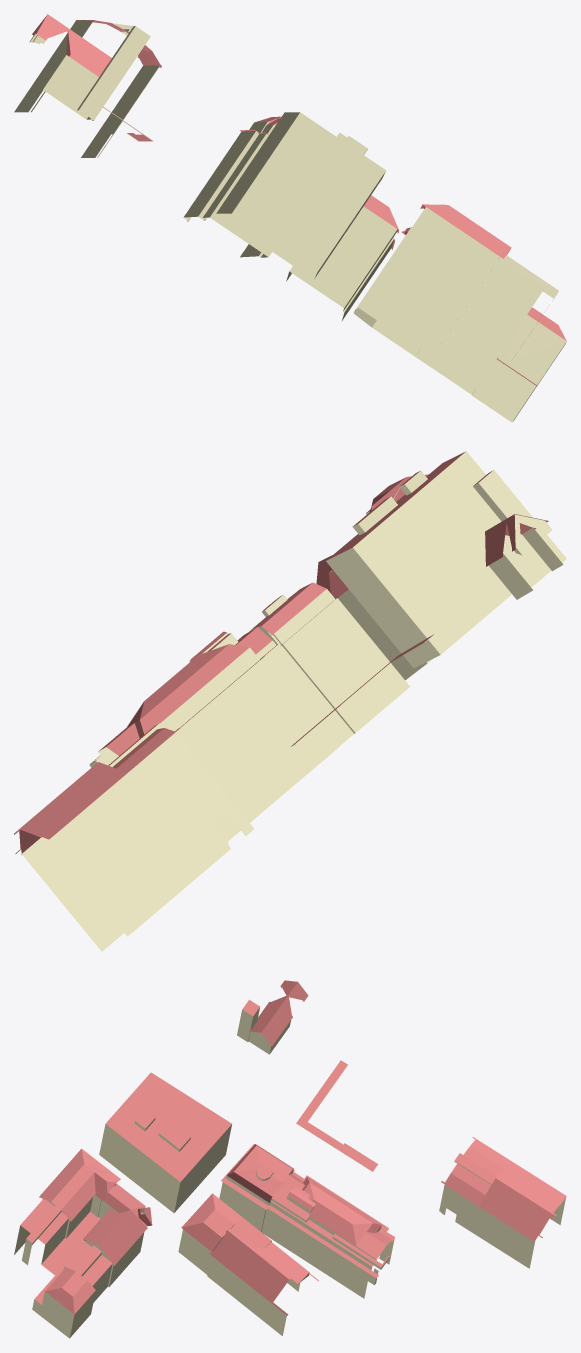
Rendered from tile_069.glb.
3 views of the same model, one above another, from view 1: azimuth 30°, elevation 25°; view 2: azimuth 150°, elevation 25°; view 3: azimuth 270°, elevation 25° (orthographic). The views are drawn at different scales.
Parts seen in each view (by area): view 1: Batched_Building_ID_570DAB13-641B-4CB6-B25A-AA3CAB091151, Batched_Building_ID_3B3DEB92-4BA3-4057-A86A-7D9AE9B4DBBD; view 2: Batched_Building_ID_570DAB13-641B-4CB6-B25A-AA3CAB091151, Batched_Building_ID_3B3DEB92-4BA3-4057-A86A-7D9AE9B4DBBD; view 3: Batched_Building_ID_3B3DEB92-4BA3-4057-A86A-7D9AE9B4DBBD, Batched_Building_ID_570DAB13-641B-4CB6-B25A-AA3CAB091151.
Boxes of the visible parts, box(x1,y1,x2,y2) form: Batched_Building_ID_570DAB13-641B-4CB6-B25A-AA3CAB091151: box(14, 20, 566, 422); Batched_Building_ID_3B3DEB92-4BA3-4057-A86A-7D9AE9B4DBBD: box(32, 14, 566, 385); Batched_Building_ID_570DAB13-641B-4CB6-B25A-AA3CAB091151: box(22, 451, 566, 951); Batched_Building_ID_3B3DEB92-4BA3-4057-A86A-7D9AE9B4DBBD: box(14, 451, 548, 854); Batched_Building_ID_3B3DEB92-4BA3-4057-A86A-7D9AE9B4DBBD: box(20, 980, 566, 1315); Batched_Building_ID_570DAB13-641B-4CB6-B25A-AA3CAB091151: box(14, 987, 565, 1338).
Bounding box in the file's own units: 105 × 97 × 188.
